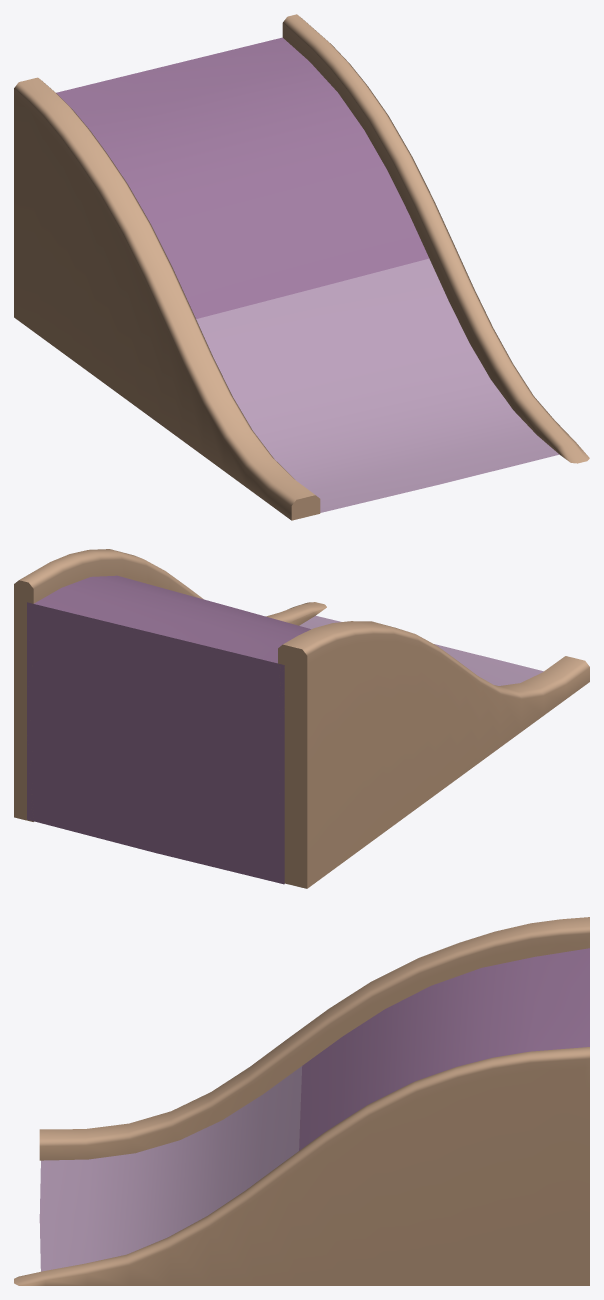
Rendered from LuffyRoad_Straight2.fbx.
3 views of the same model, one above another, from view 1: azimuth 30°, elevation 25°; view 2: azimuth 150°, elevation 25°; view 3: azimuth 270°, elevation 25° (orthographic). The views are drawn at different scales.
Visible parts, largest first — view 1: LUFFY_Road_straight2, LUFFY_Road_straight9, LUFFY_Road_straight7, LUFFY_Road_straight8; view 2: LUFFY_Road_straight2, LUFFY_Road_straight7, LUFFY_Road_straight8, LUFFY_Road_straight9; view 3: LUFFY_Road_straight8, LUFFY_Road_straight2, LUFFY_Road_straight9, LUFFY_Road_straight7.
Part boxes in pixels (x1=…): LUFFY_Road_straight2: x1=56, y1=37, x2=429, y2=318; LUFFY_Road_straight9: x1=196, y1=258, x2=558, y2=512; LUFFY_Road_straight7: x1=14, y1=77, x2=320, y2=520; LUFFY_Road_straight8: x1=282, y1=14, x2=589, y2=463; LUFFY_Road_straight2: x1=27, y1=575, x2=310, y2=884; LUFFY_Road_straight7: x1=278, y1=621, x2=589, y2=888; LUFFY_Road_straight8: x1=14, y1=549, x2=326, y2=821; LUFFY_Road_straight9: x1=299, y1=615, x2=543, y2=685; LUFFY_Road_straight8: x1=14, y1=1047, x2=589, y2=1285; LUFFY_Road_straight2: x1=299, y1=948, x2=589, y2=1150; LUFFY_Road_straight9: x1=39, y1=1066, x2=302, y2=1271; LUFFY_Road_straight7: x1=39, y1=917, x2=589, y2=1160.
Bounding box in the file's own units: 301 × 234 × 525.
